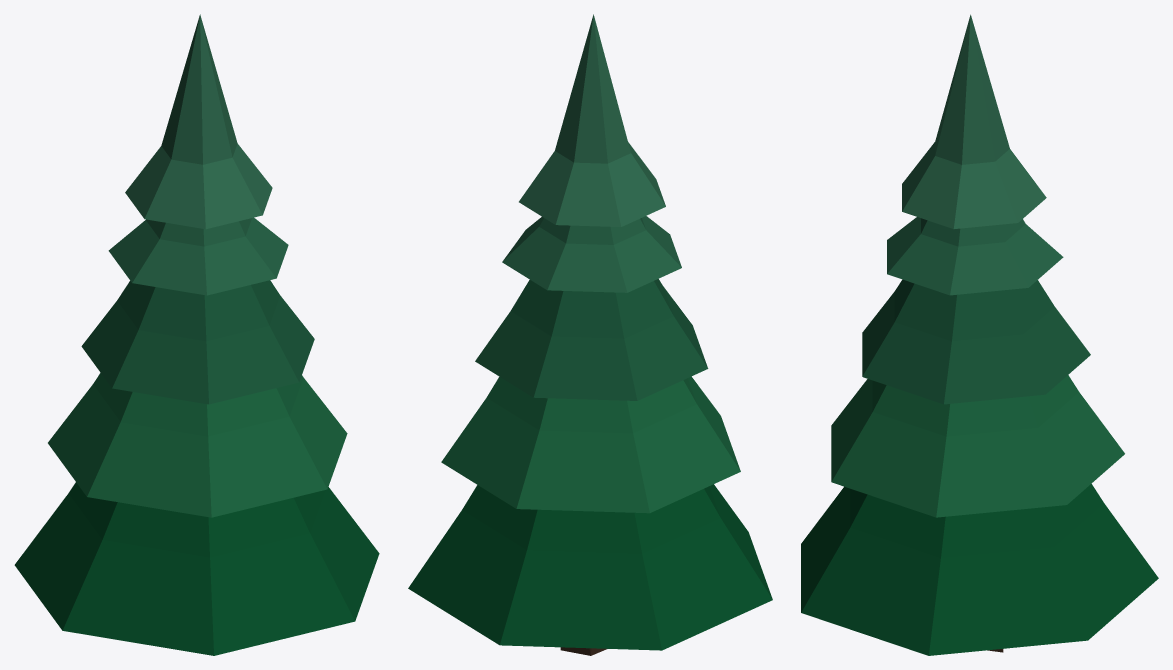
Rendered from Taiga_Tree4.fbx.
3 renders of one model, left to right at view 1: azimuth 30°, elevation 25°; view 2: azimuth 150°, elevation 25°; view 3: azimuth 270°, elevation 25°, orthographic.
Parts seen in each view (by area): view 1: Vert.027; view 2: Vert.027; view 3: Vert.027.
Boxes of the visible parts, x1=… form: Vert.027: x1=14, y1=14, x2=379, y2=655; Vert.027: x1=408, y1=14, x2=772, y2=655; Vert.027: x1=801, y1=14, x2=1158, y2=655.
Size of the model in its own units: 269 by 509 by 262.
